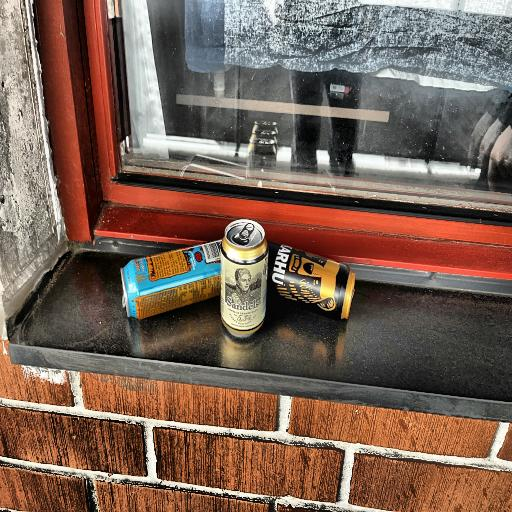karhu: (269, 236, 361, 320)
sandels: (217, 217, 270, 332)
